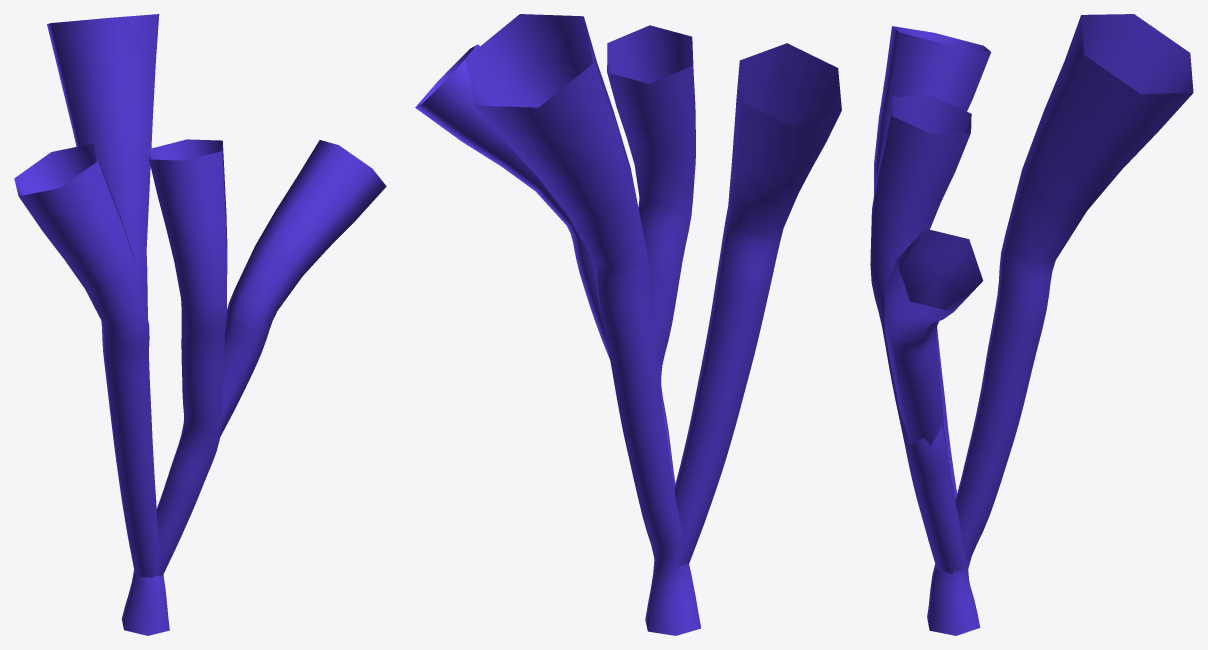
The model's file is coral.fbx.
3 renders of one model, left to right at view 1: azimuth 30°, elevation 25°; view 2: azimuth 150°, elevation 25°; view 3: azimuth 270°, elevation 25°, orthographic. The views are drawn at different scales.
Visible parts, largest first — view 1: CoralS.02; view 2: CoralS.02; view 3: CoralS.02.
Part boxes in pixels (x1,y1,x2,y2): CoralS.02: (14, 14, 386, 635); CoralS.02: (415, 14, 841, 635); CoralS.02: (870, 14, 1193, 635).
Bounding box in the file's own units: 76.91 × 115 × 54.47.
